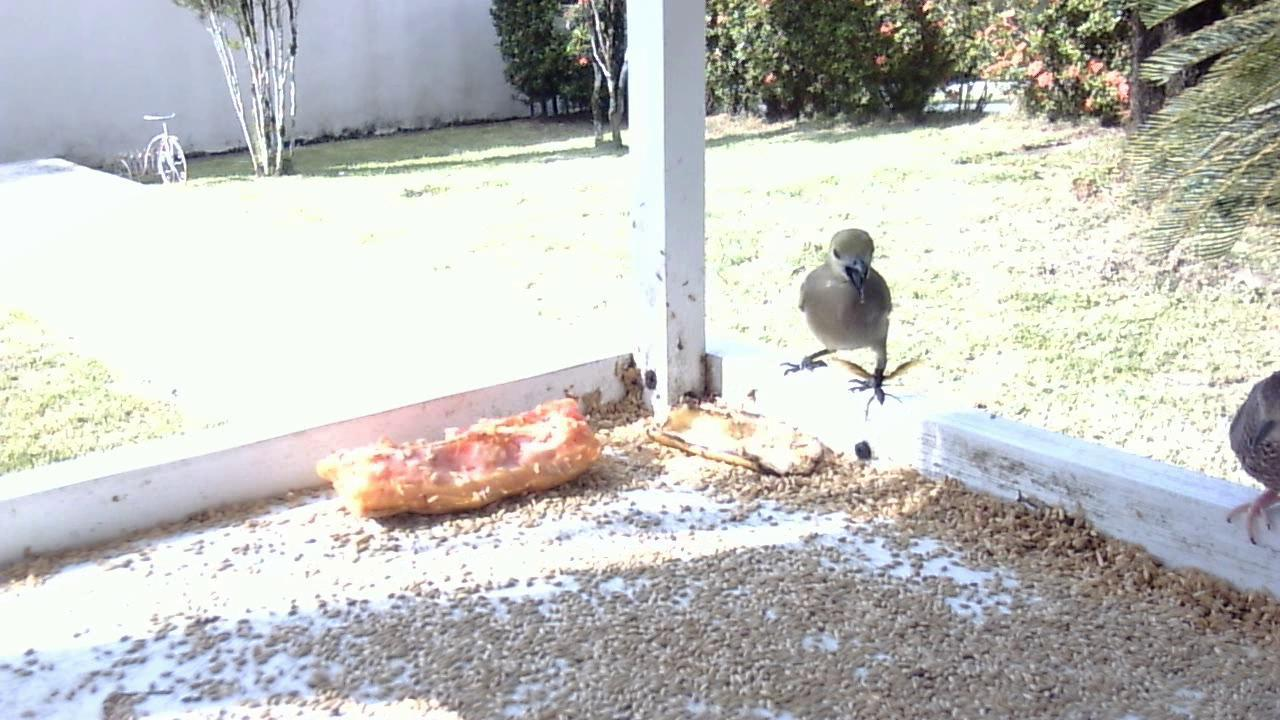rolinha: (1215, 357, 1278, 545)
sanhaco_do_coqueiro: (777, 228, 915, 412)
